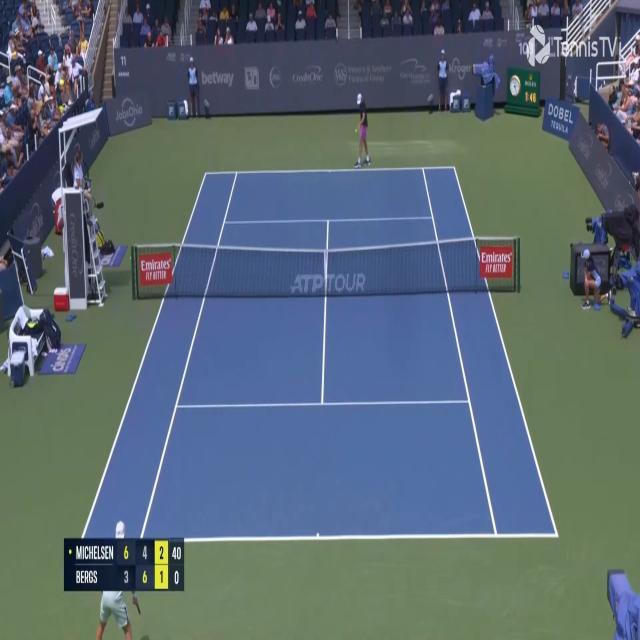tennis-player: (93, 515, 146, 639), (351, 91, 372, 170)
